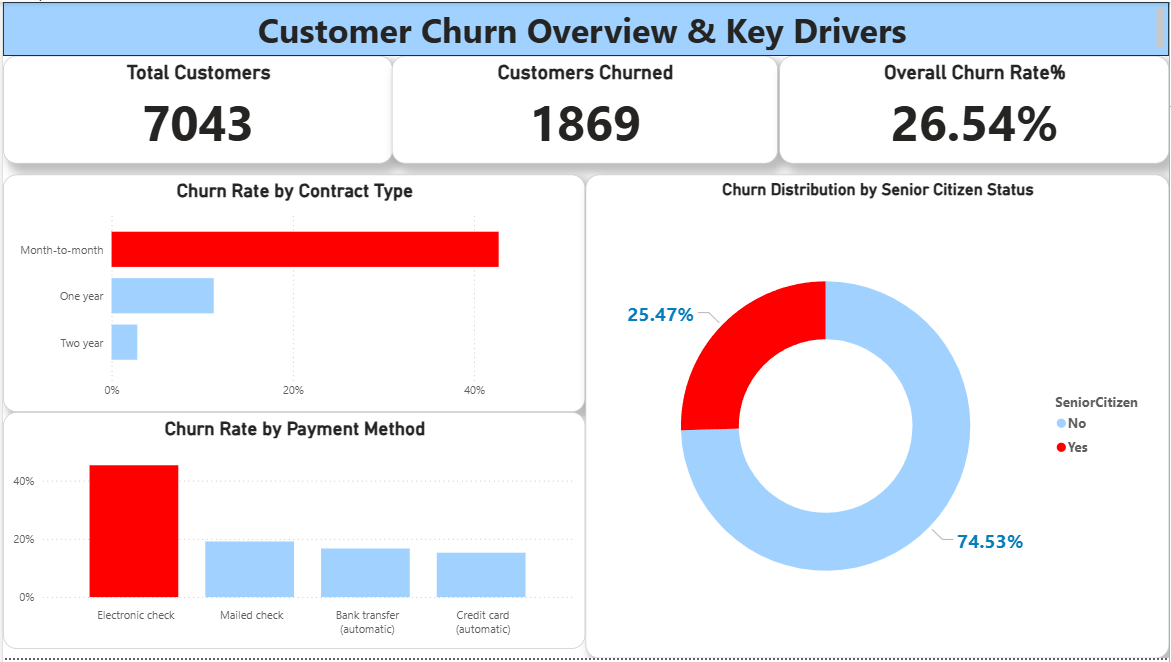

The dashboard page shown, as its layout file describes it:
{"tool":"powerbi","page":{"name":"Page 1","canvas":[1280,720],"ordinal":0},"visuals":[{"type":"card","title":"Total Customers","fields":{"Values":["_Key_Measures.Total Customers"]},"box":[0,59,428.1,118],"z":0},{"type":"card","title":"Customers Churned","fields":{"Values":["_Key_Measures.Churned customers"]},"box":[426.8,59,424,118],"z":1000},{"type":"card","title":"Overall Churn Rate%","fields":{"Values":["_Key_Measures.Churn Rate%"]},"box":[852.1,59,428.1,118],"z":2000},{"type":"clusteredBarChart","title":"Churn Rate by Contract Type","fields":{"Category":["Teleco_Churn_Analysis.Contract"],"Y":["_Key_Measures.Churn Rate%"]},"box":[0,189.4,639.5,260.7],"z":3000},{"type":"donutChart","title":"Churn Distribution by Senior Citizen Status","fields":{"Category":["Teleco_Churn_Analysis.SeniorCitizen"],"Y":["_Key_Measures.Churned customers"]},"box":[639.5,189.4,640.8,531],"z":4000},{"type":"clusteredColumnChart","title":"Churn Rate by Payment Method","fields":{"Category":["Teleco_Churn_Analysis.PaymentMethod"],"Y":["_Key_Measures.Churn Rate%"]},"box":[0,450.1,639.5,260],"z":5000},{"type":"textbox","box":[0,0,1280.3,59],"z":6000}]}

Visuals, with their boxes in screenshot pixels (x1, y1, x2, y2), scaled from the page's 1280x720 canvas onto the 1171x662 screenshot:
"Total Customers" card: (0,54,392,163)
"Customers Churned" card: (390,54,778,163)
"Overall Churn Rate%" card: (780,54,1170,163)
"Churn Rate by Contract Type" clusteredBarChart: (0,174,585,414)
"Churn Distribution by Senior Citizen Status" donutChart: (585,174,1170,661)
"Churn Rate by Payment Method" clusteredColumnChart: (0,414,585,653)
textbox: (0,0,1170,54)
